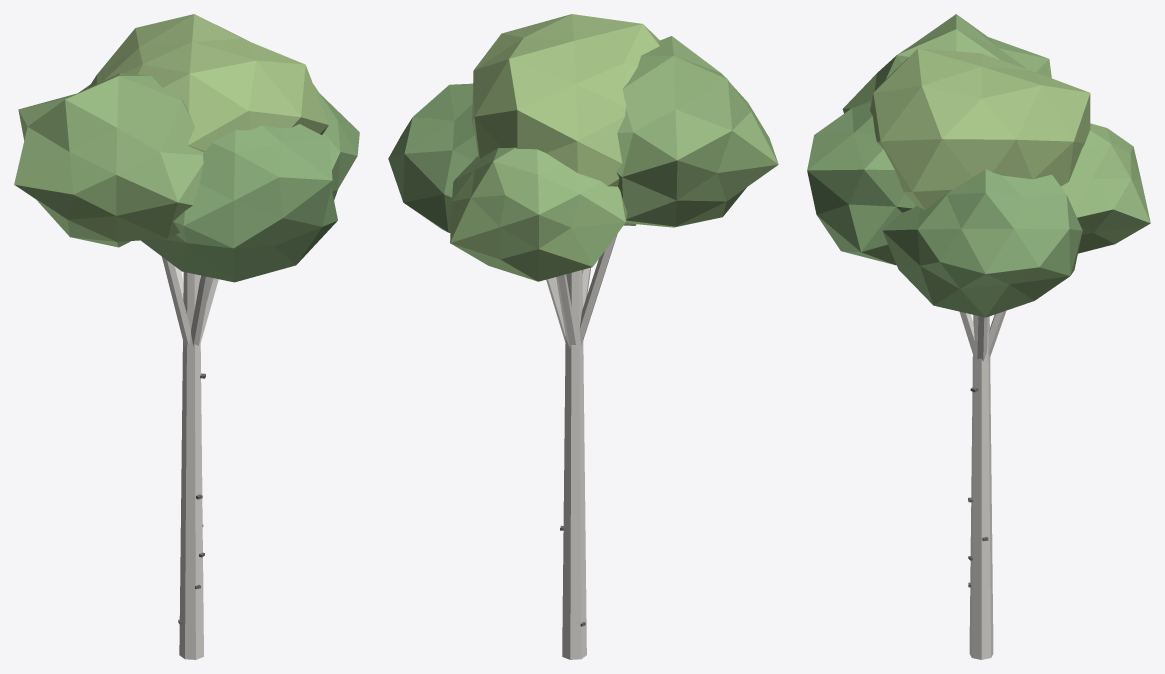
File: node_tree_grassland_1.glb
The picture shows the model from 3 angles, left to right: view 1: azimuth 30°, elevation 25°; view 2: azimuth 150°, elevation 25°; view 3: azimuth 270°, elevation 25°; orthographic projection. The views are drawn at different scales.
Parts seen in each view (by area): view 1: node_tree_grassland_1; view 2: node_tree_grassland_1; view 3: node_tree_grassland_1.
Boxes of the visible parts, box(x1,y1,x2,y2) form: node_tree_grassland_1: box(14, 14, 359, 659); node_tree_grassland_1: box(388, 14, 778, 659); node_tree_grassland_1: box(807, 14, 1150, 659).
Bounding box in the file's own units: 4.56 × 7.41 × 3.91.
